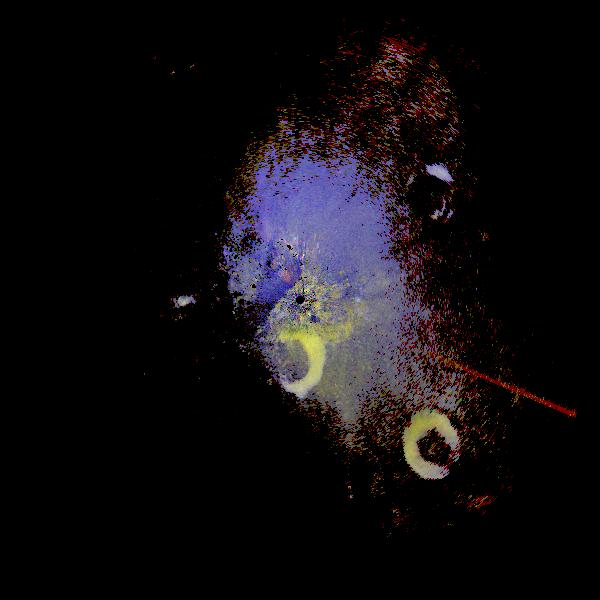roost: (247, 314, 346, 413), (386, 398, 485, 497), (386, 155, 473, 242)
